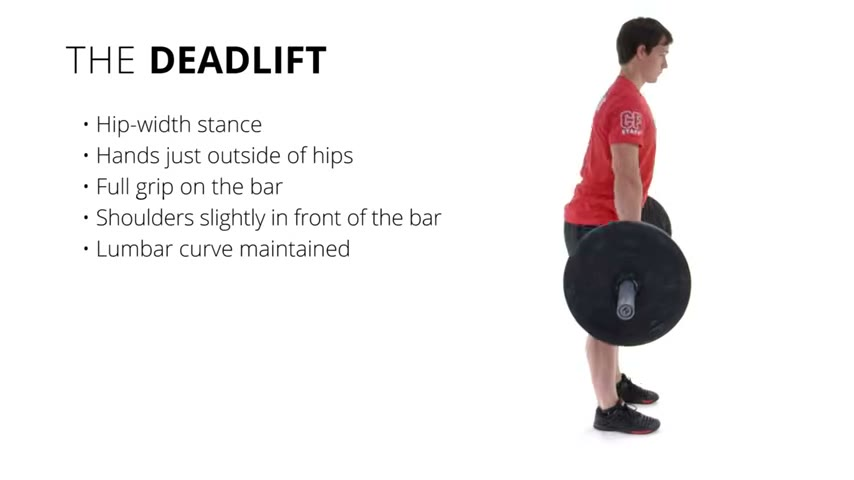barbell_plate_side: (657, 197, 694, 350), (563, 216, 603, 349), (567, 217, 596, 347)
